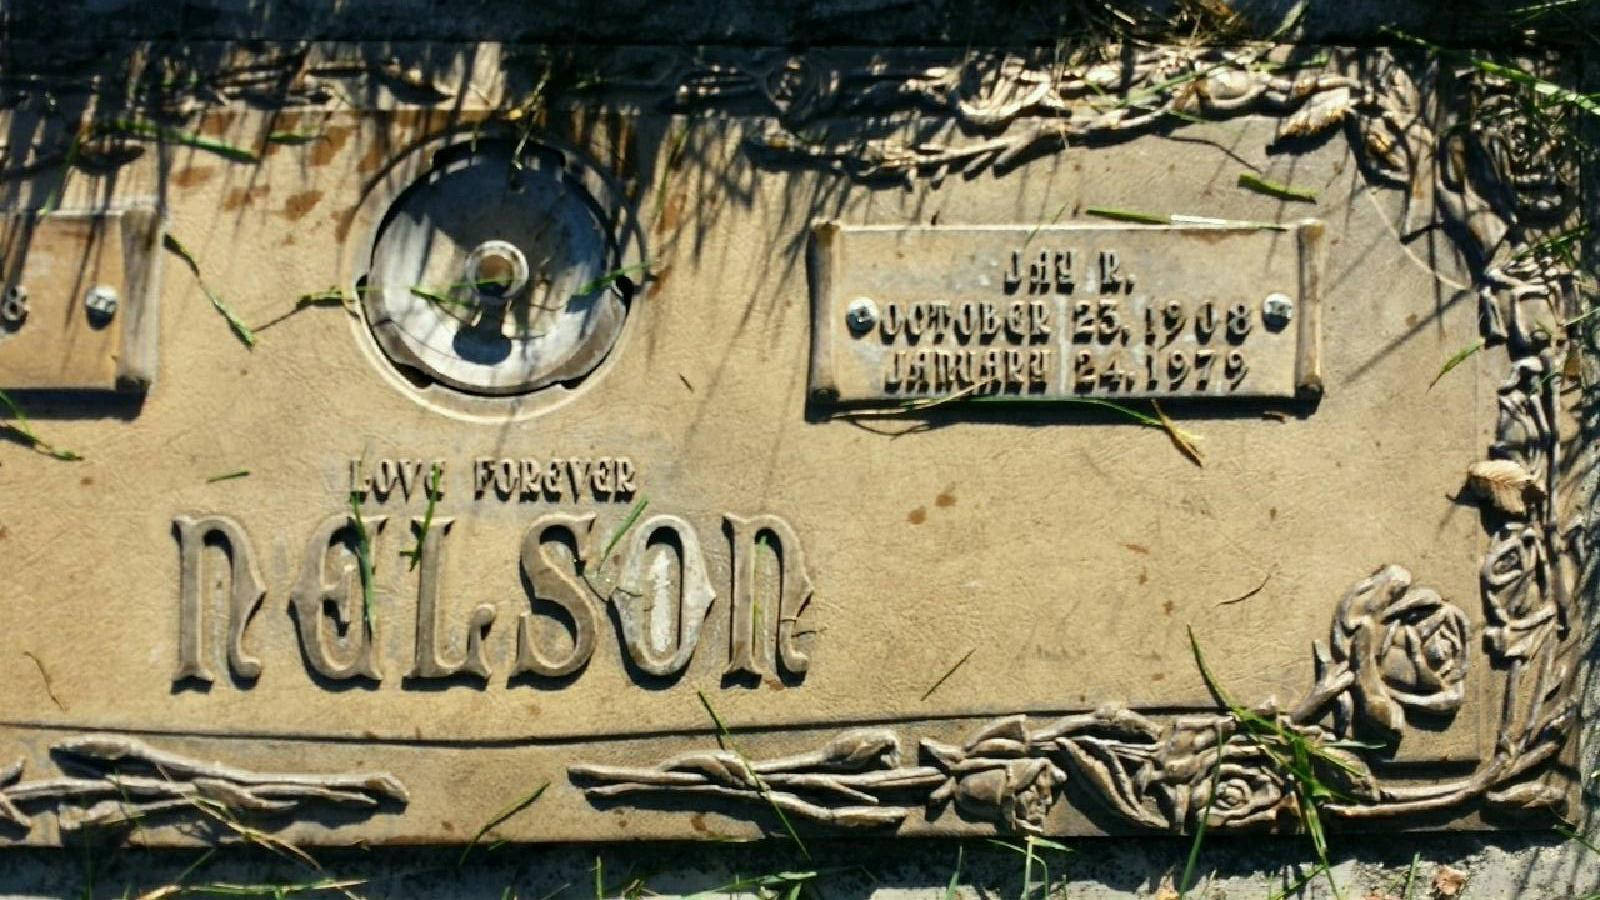flat: (11, 5, 1600, 897)
